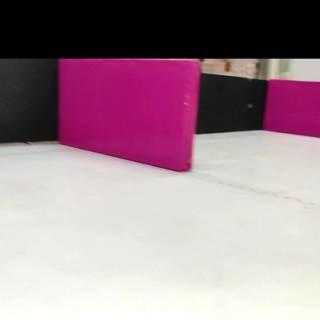xparking: (64, 62, 194, 162), (269, 81, 320, 134)
